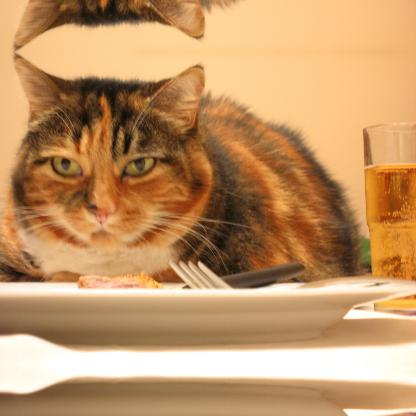Cat: (0, 52, 360, 280), (0, 0, 361, 53)
